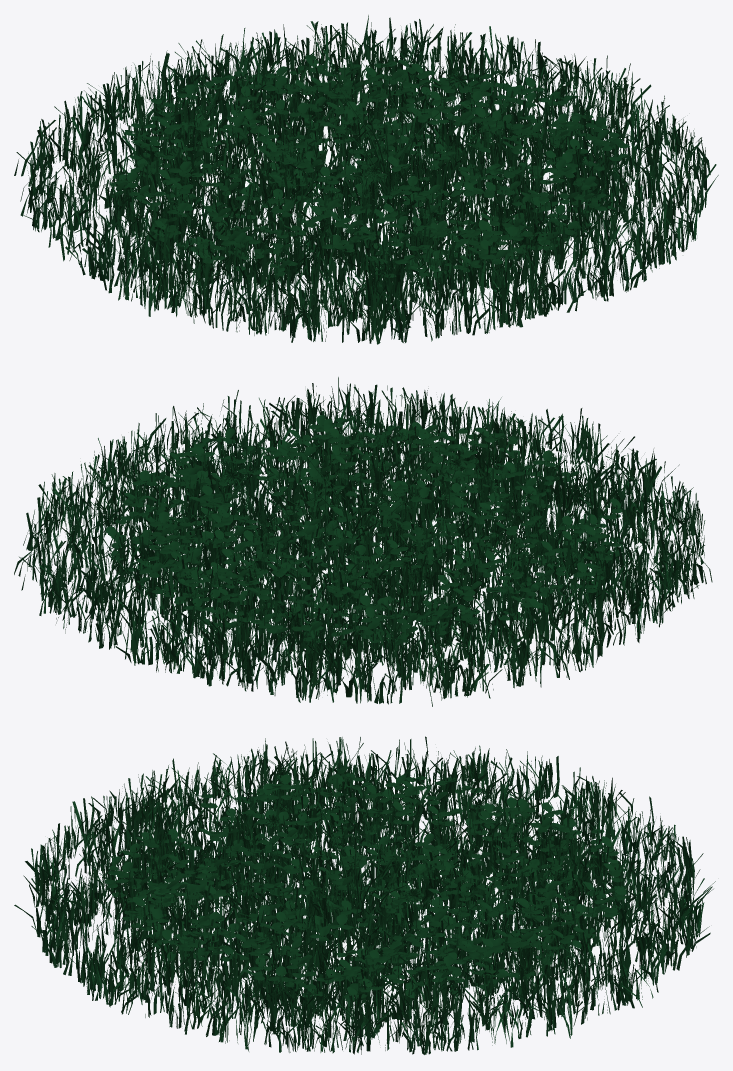
The model's file is Grass.FBX.
3 renders of one model, top to bottom at view 1: azimuth 30°, elevation 25°; view 2: azimuth 150°, elevation 25°; view 3: azimuth 270°, elevation 25°, orthographic.
Parts seen in each view (by area): view 1: Grass; view 2: Grass; view 3: Grass.
Boxes of the visible parts, bbox=[...] form: Grass: bbox=[14, 15, 718, 344]; Grass: bbox=[14, 377, 712, 706]; Grass: bbox=[14, 736, 715, 1054].
Bounding box in the file's own units: 105 × 16.63 × 106.
